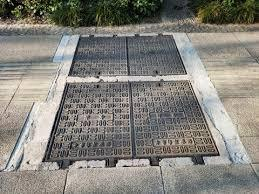wellcover: (39, 79, 213, 164), (64, 29, 188, 76)
